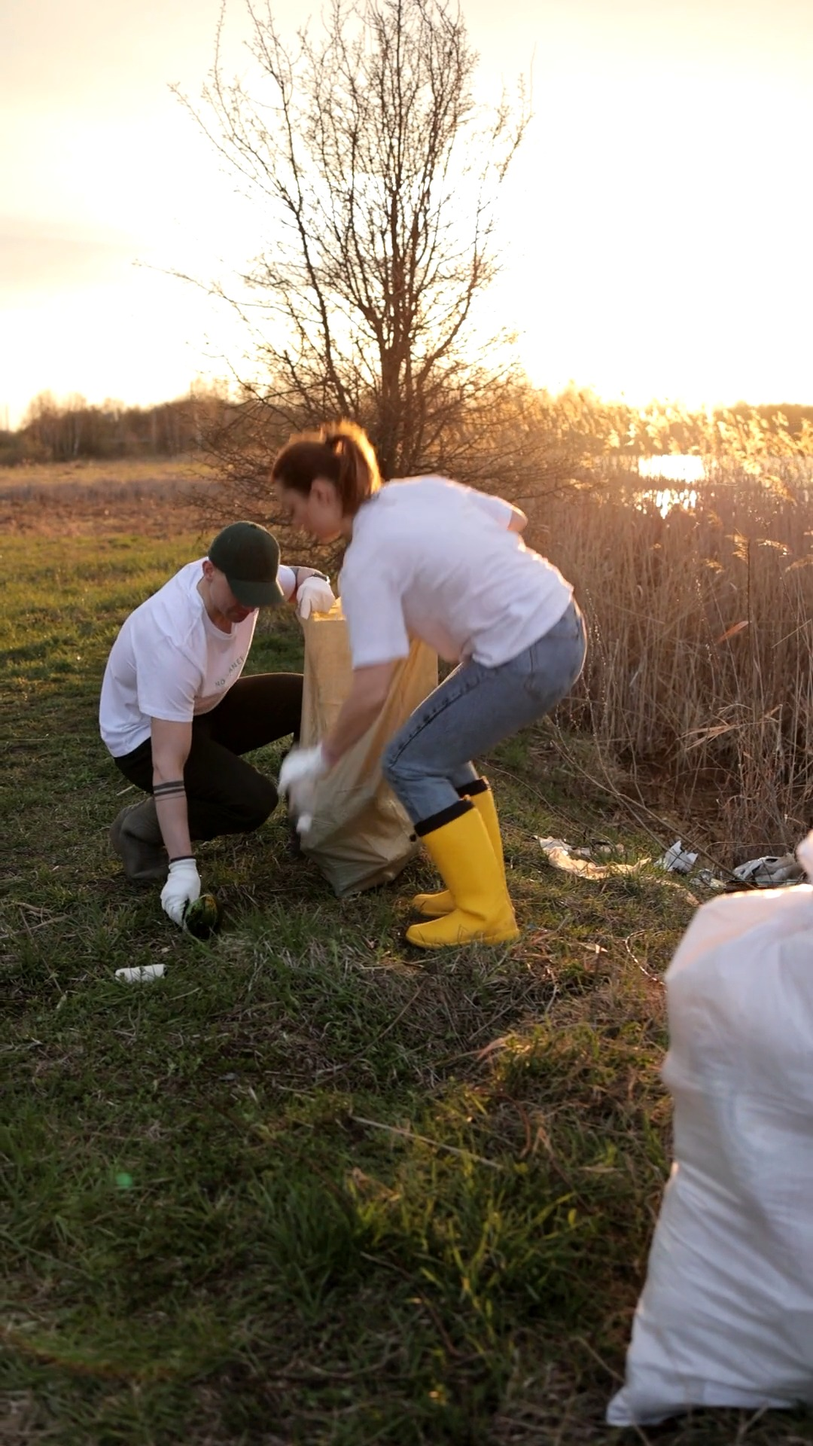gloves: (156, 846, 219, 934), (273, 731, 324, 831)
